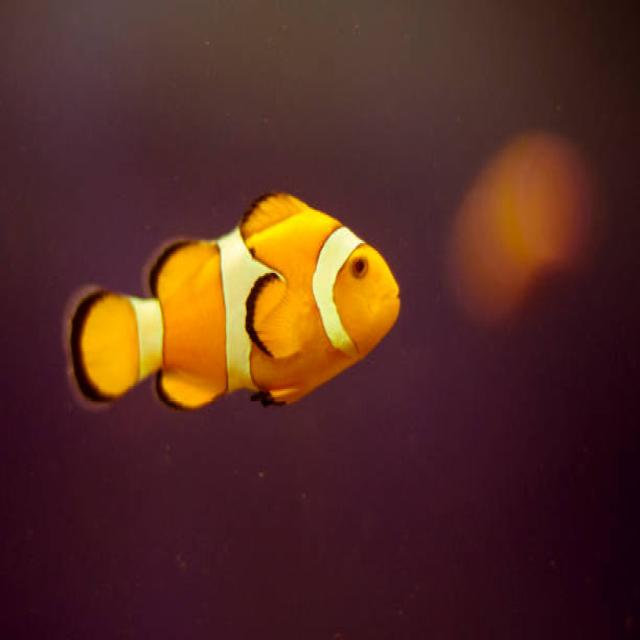ClownFish: (59, 193, 403, 420)
